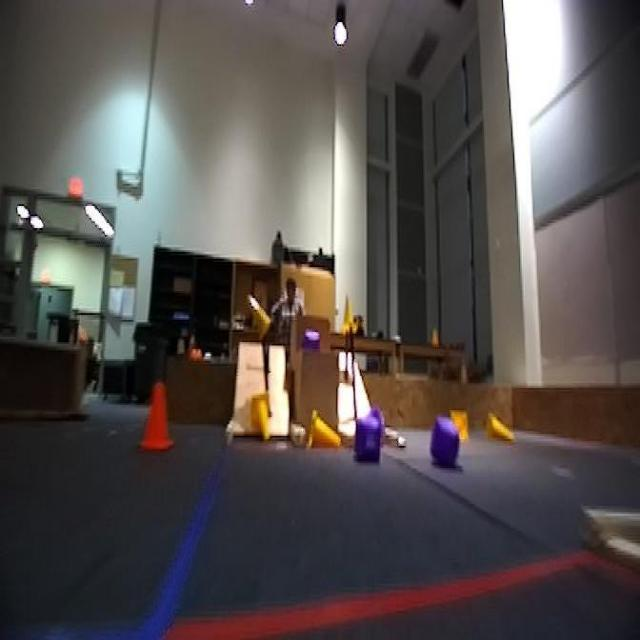frc_cone: (236, 284, 271, 346), (307, 412, 343, 453), (332, 286, 360, 337), (250, 390, 274, 446), (483, 416, 520, 450), (443, 403, 471, 428)
frc_cube: (430, 421, 460, 468), (356, 413, 385, 458), (302, 330, 323, 356)
